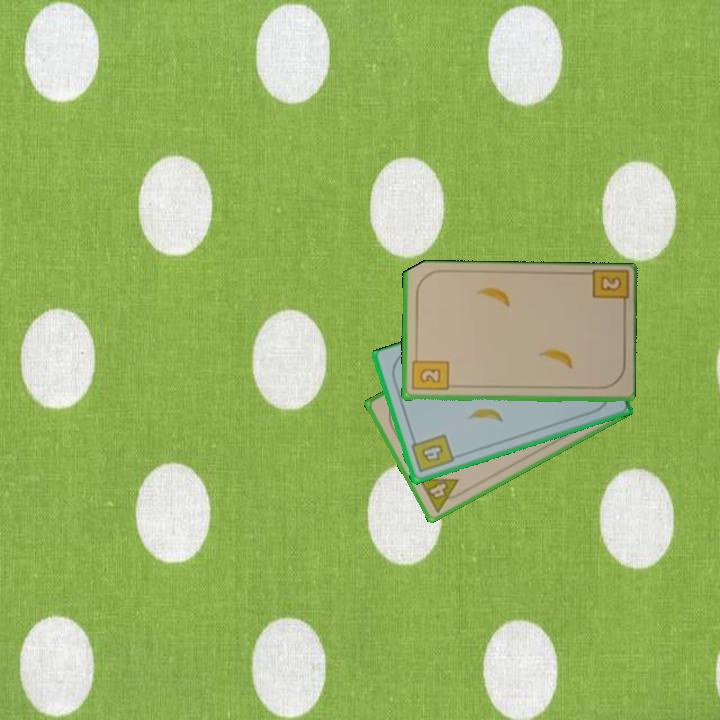2b: (587, 268, 629, 313), (408, 351, 451, 393)
4b: (407, 431, 456, 476)
4p: (415, 474, 468, 515)
